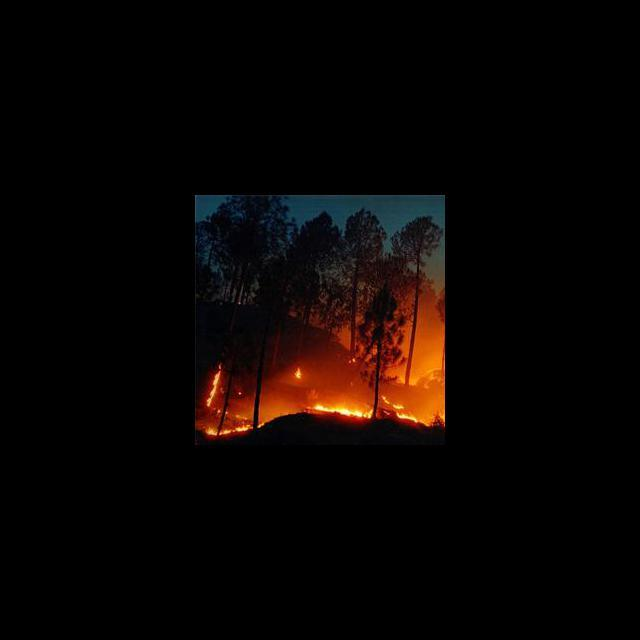Fire: (316, 399, 370, 421), (203, 362, 224, 406), (222, 424, 251, 438), (398, 410, 420, 424), (203, 426, 216, 440), (293, 368, 302, 379)
